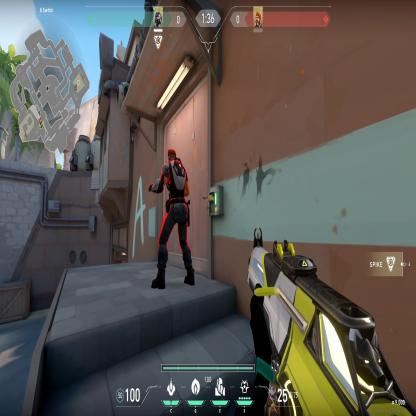enemy: (146, 147, 198, 290)
